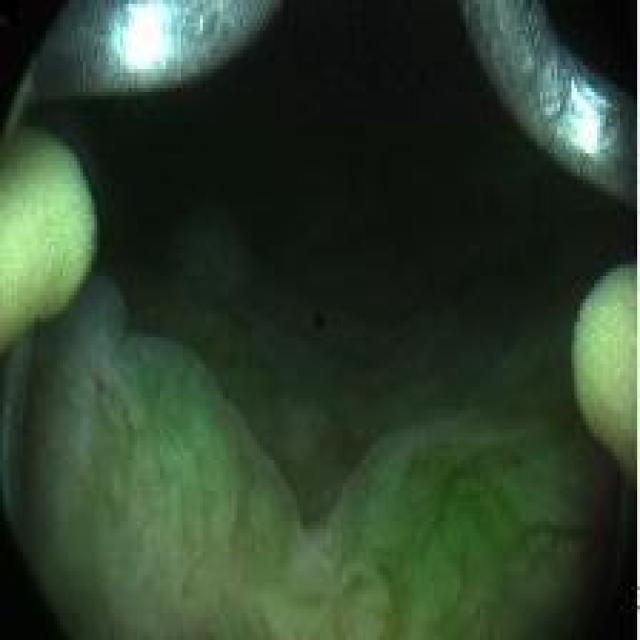color misalignment: (310, 309, 327, 330)
contrast: (88, 24, 598, 359)
instrument: (463, 6, 635, 203), (35, 7, 258, 105), (5, 132, 92, 356), (570, 261, 636, 480)
specularity: (112, 2, 177, 67), (564, 74, 605, 159)
